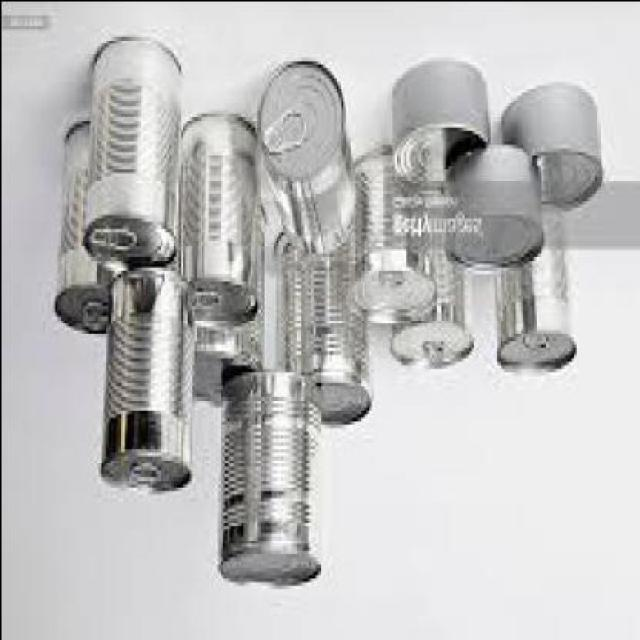METAL: (79, 38, 179, 273), (212, 375, 321, 587), (96, 269, 196, 494), (256, 56, 352, 256), (272, 230, 368, 427), (174, 115, 258, 332), (344, 144, 433, 325), (49, 123, 120, 335), (495, 81, 600, 210), (440, 139, 540, 273), (391, 60, 486, 195), (493, 238, 575, 378), (387, 252, 470, 372), (191, 315, 258, 410), (261, 109, 301, 158), (86, 228, 136, 258), (77, 304, 105, 336)
